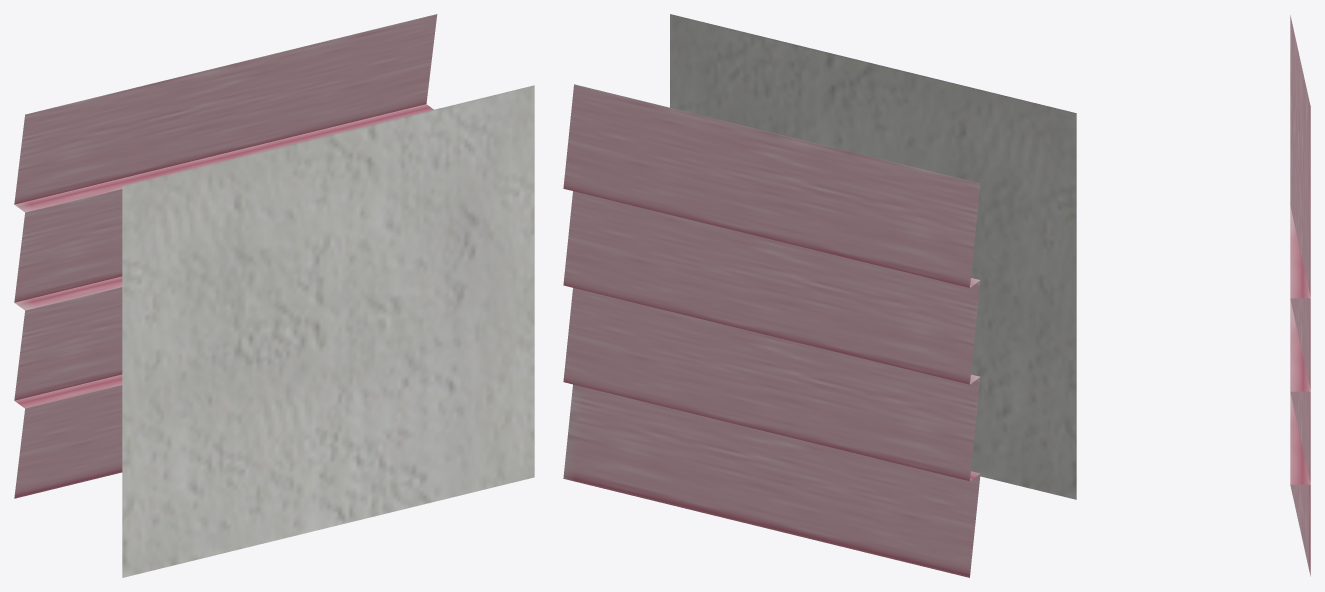
The model's file is extWall_I.obj.
3 views of the same model, side by side, from view 1: azimuth 30°, elevation 25°; view 2: azimuth 150°, elevation 25°; view 3: azimuth 270°, elevation 25° (orthographic). The views are drawn at different scales.
Size of the model in its own units: 2.2 by 2 by 1.
